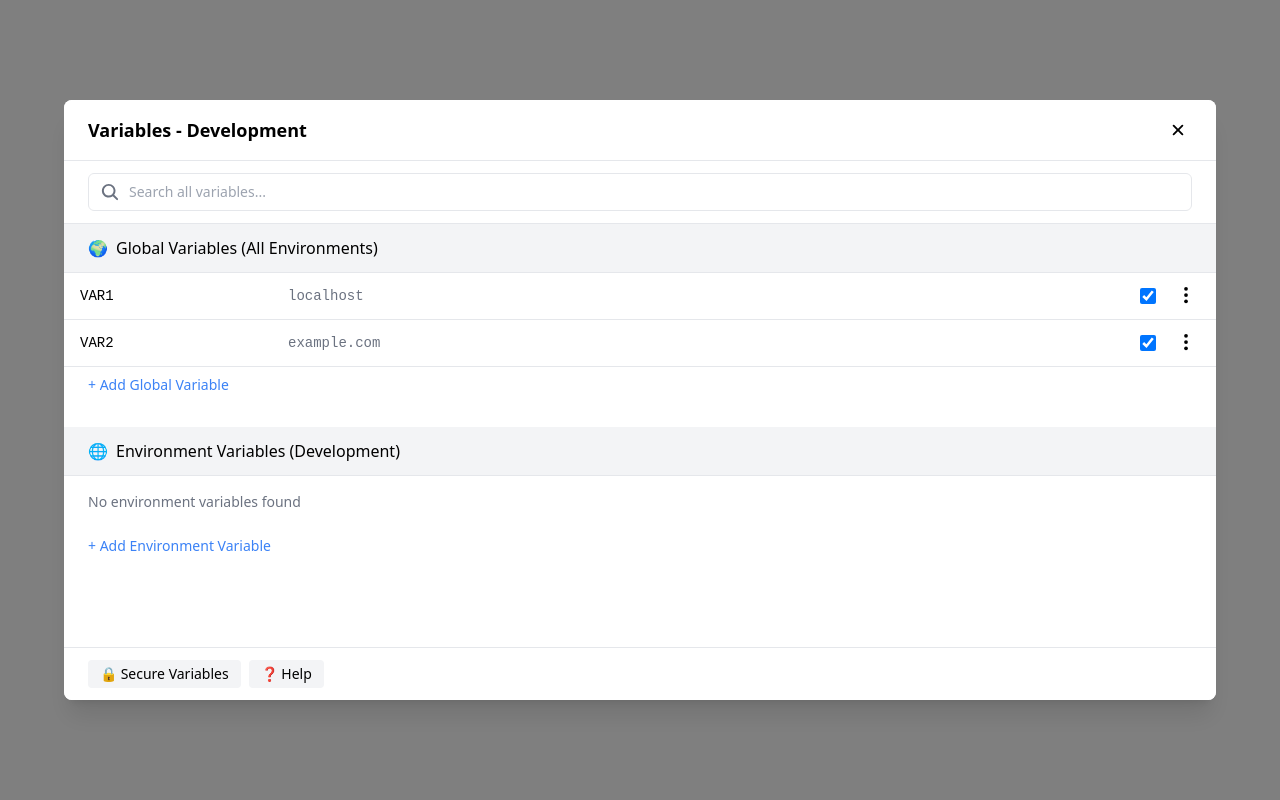
Test case: VariablesPanel › Search Functionality › should search by value as well as name
Type "localhost" into the field with placeholder "Search all variables...". click: (640, 192)
box: [88,173,1192,211]
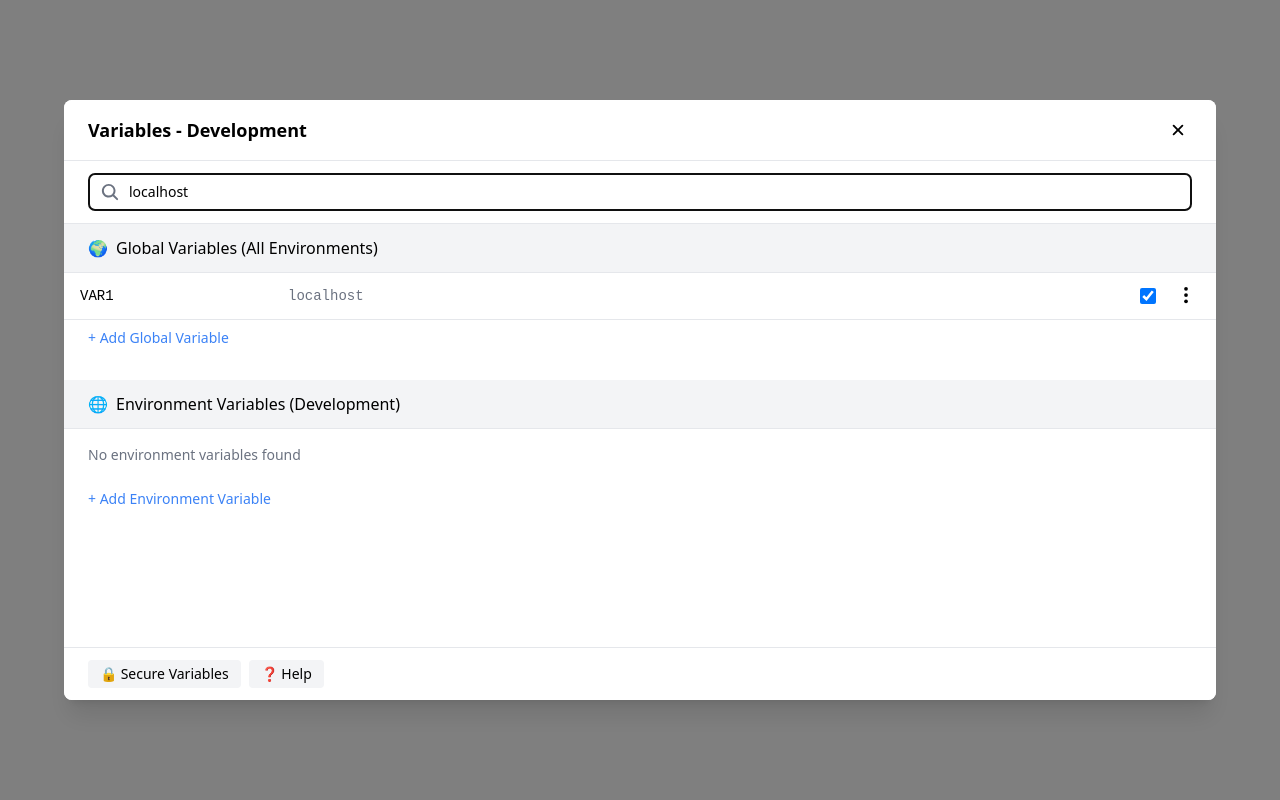
expect the text "VAR1" is shown: met, box [80,288,114,304]
expect the text "VAR2" is gone: met
